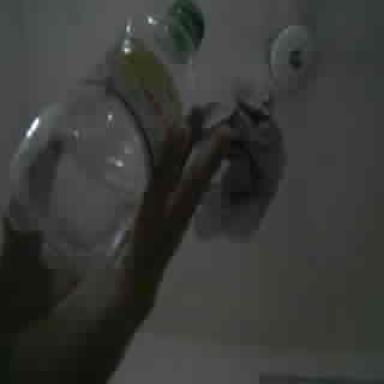bottle: (11, 0, 204, 272)
paper: (191, 86, 286, 240)
